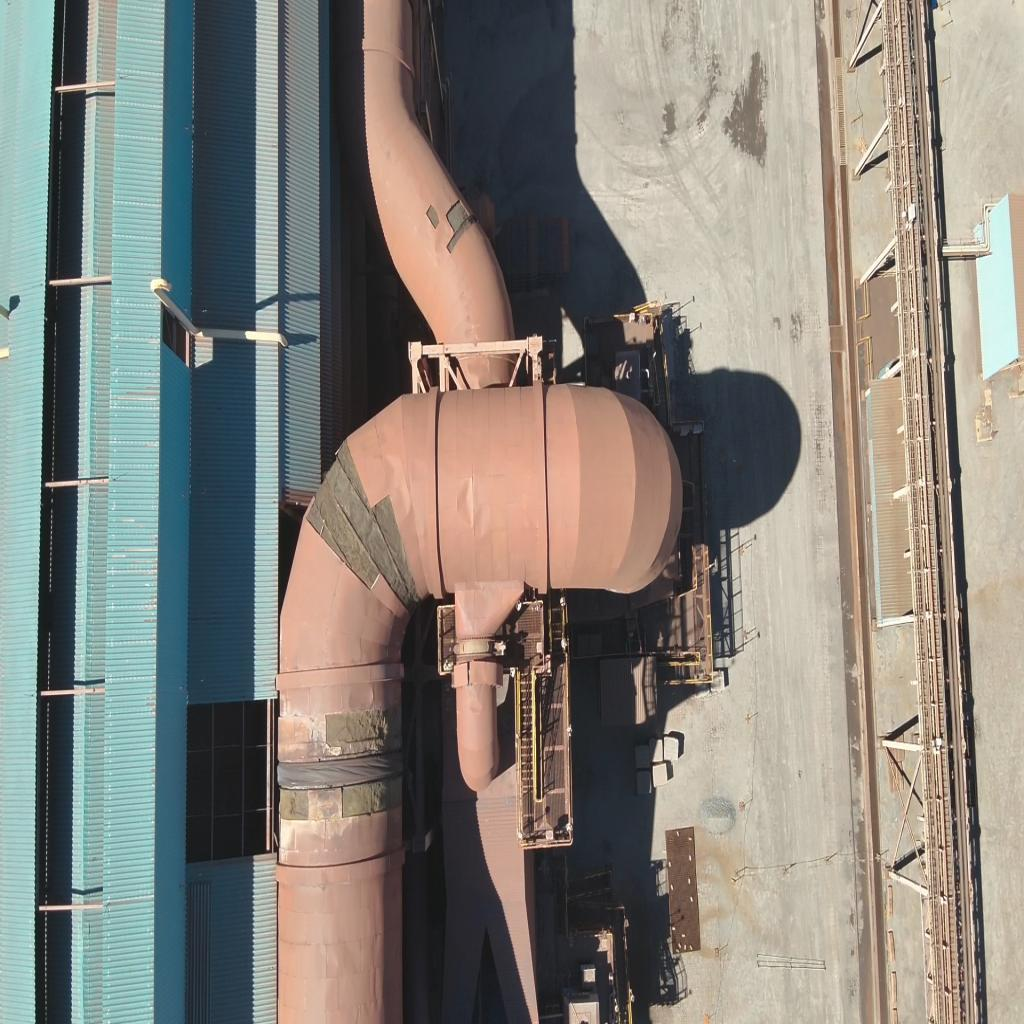Failures: (313, 439, 426, 618), (324, 695, 398, 746), (338, 774, 407, 812), (444, 196, 478, 256), (275, 781, 313, 825), (422, 199, 443, 232)
